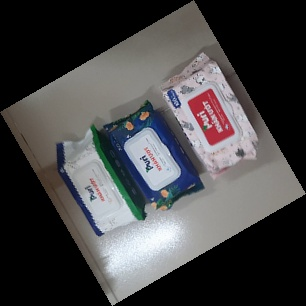Puri Trang: (53, 124, 149, 240)
Puri Xanh: (103, 100, 206, 217)
Puri hong: (158, 51, 258, 180)
